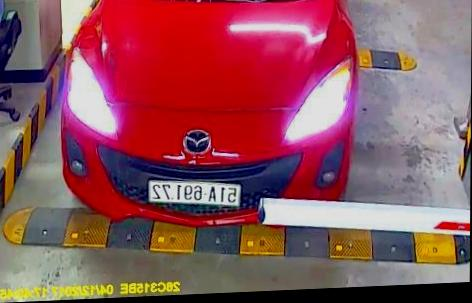License_Plate: (147, 177, 241, 208)
